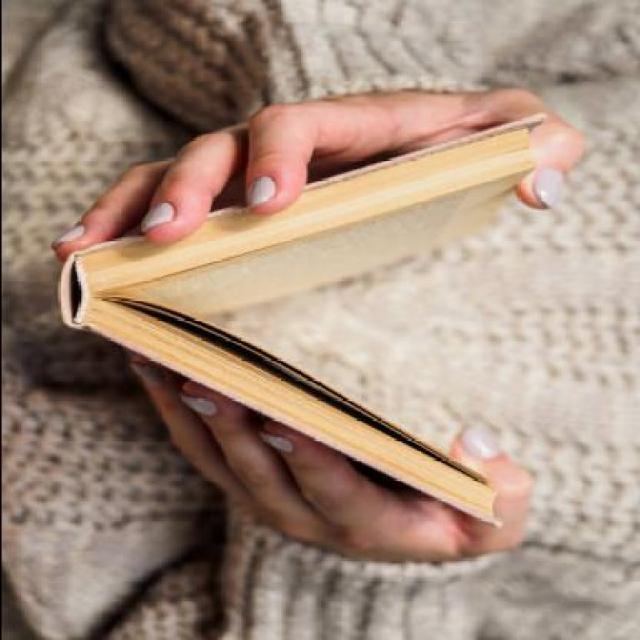book: (39, 113, 631, 557)
